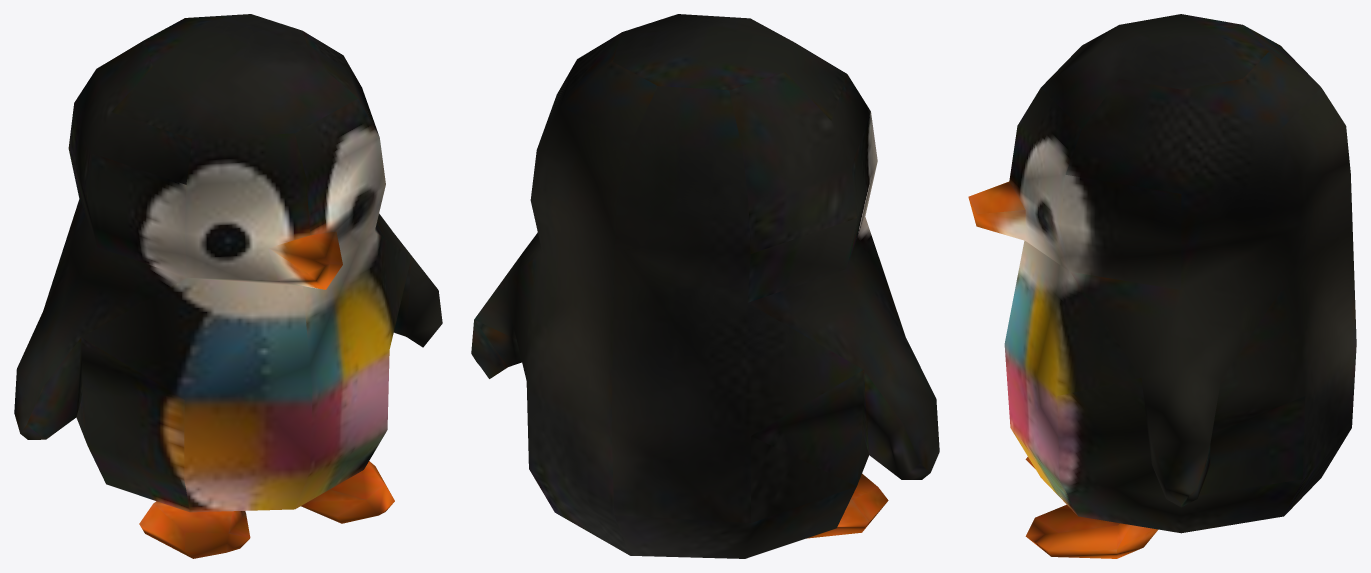
File: penguin-felt-01-34-patchwork-tummy.gltf
3 renders of one model, left to right at view 1: azimuth 30°, elevation 25°; view 2: azimuth 150°, elevation 25°; view 3: azimuth 270°, elevation 25°, orthographic. The views are drawn at different scales.
Parts seen in each view (by area): view 1: penguin-felt-01-34-patchwork-tummy; view 2: penguin-felt-01-34-patchwork-tummy; view 3: penguin-felt-01-34-patchwork-tummy.
Part boxes in pixels (<box>): penguin-felt-01-34-patchwork-tummy: <box>14,14,442,558</box>; penguin-felt-01-34-patchwork-tummy: <box>471,14,939,558</box>; penguin-felt-01-34-patchwork-tummy: <box>968,14,1356,558</box>.
Size of the model in its own units: 0.2 by 0.2089 by 0.1559.
1 material, 1 textured.
